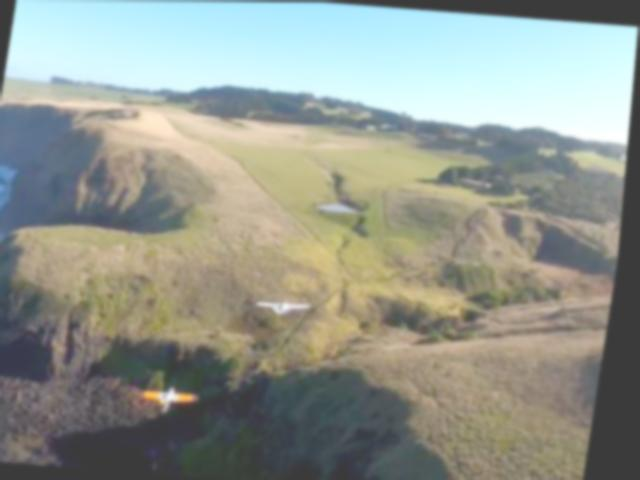uav: (142, 384, 206, 409), (256, 293, 317, 315)
